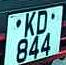4: (39, 32, 52, 57), (28, 35, 41, 60)
8: (14, 37, 29, 64)
D: (36, 9, 49, 36)
K: (23, 12, 36, 39)
